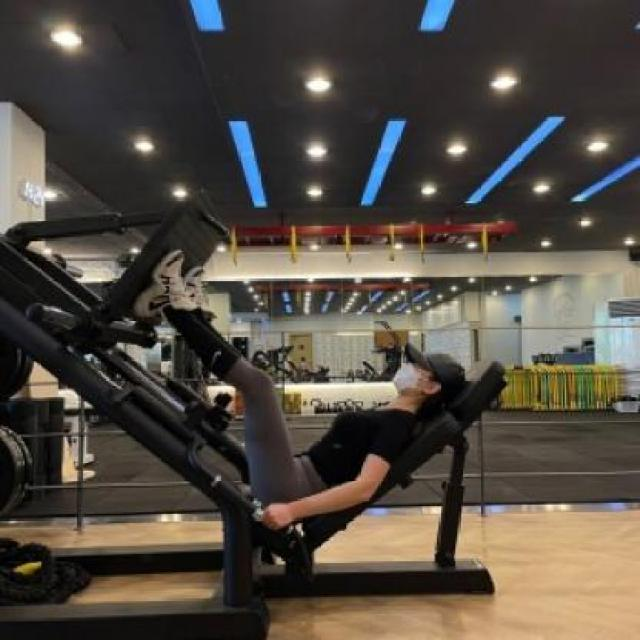leg press: (0, 157, 540, 640)
